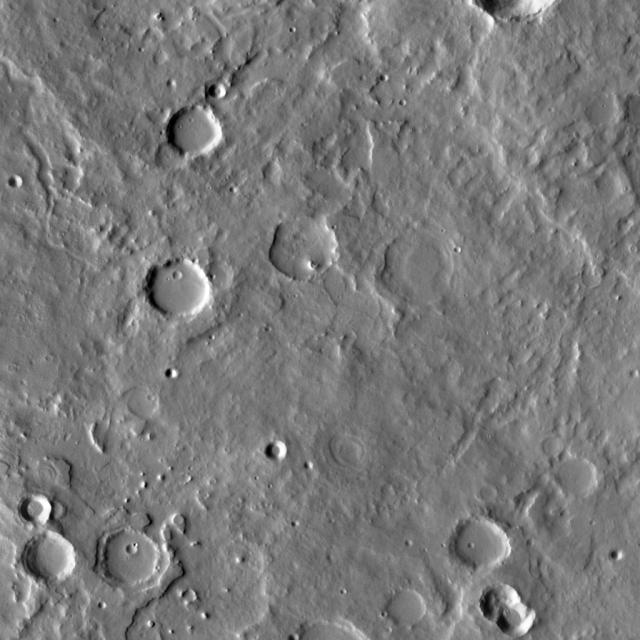crater: (379, 229, 458, 302), (268, 214, 338, 280), (146, 256, 212, 317), (98, 527, 160, 585), (450, 514, 510, 570), (166, 105, 223, 157), (21, 532, 76, 582), (554, 453, 598, 494), (384, 586, 427, 626), (480, 582, 522, 621), (497, 600, 535, 635), (330, 434, 366, 468), (17, 492, 51, 524), (154, 140, 188, 172), (204, 260, 235, 289), (264, 439, 286, 460), (208, 81, 227, 98), (480, 484, 498, 501), (610, 546, 626, 560), (165, 364, 179, 378), (9, 173, 23, 186), (294, 412, 307, 424), (126, 542, 138, 554), (172, 269, 182, 279), (304, 460, 314, 469), (288, 632, 299, 640), (630, 368, 639, 377), (168, 80, 176, 88), (454, 244, 462, 252), (292, 518, 300, 526), (392, 91, 400, 98), (461, 532, 468, 539), (333, 580, 340, 587), (91, 593, 98, 600), (380, 74, 388, 80), (398, 532, 405, 538)
